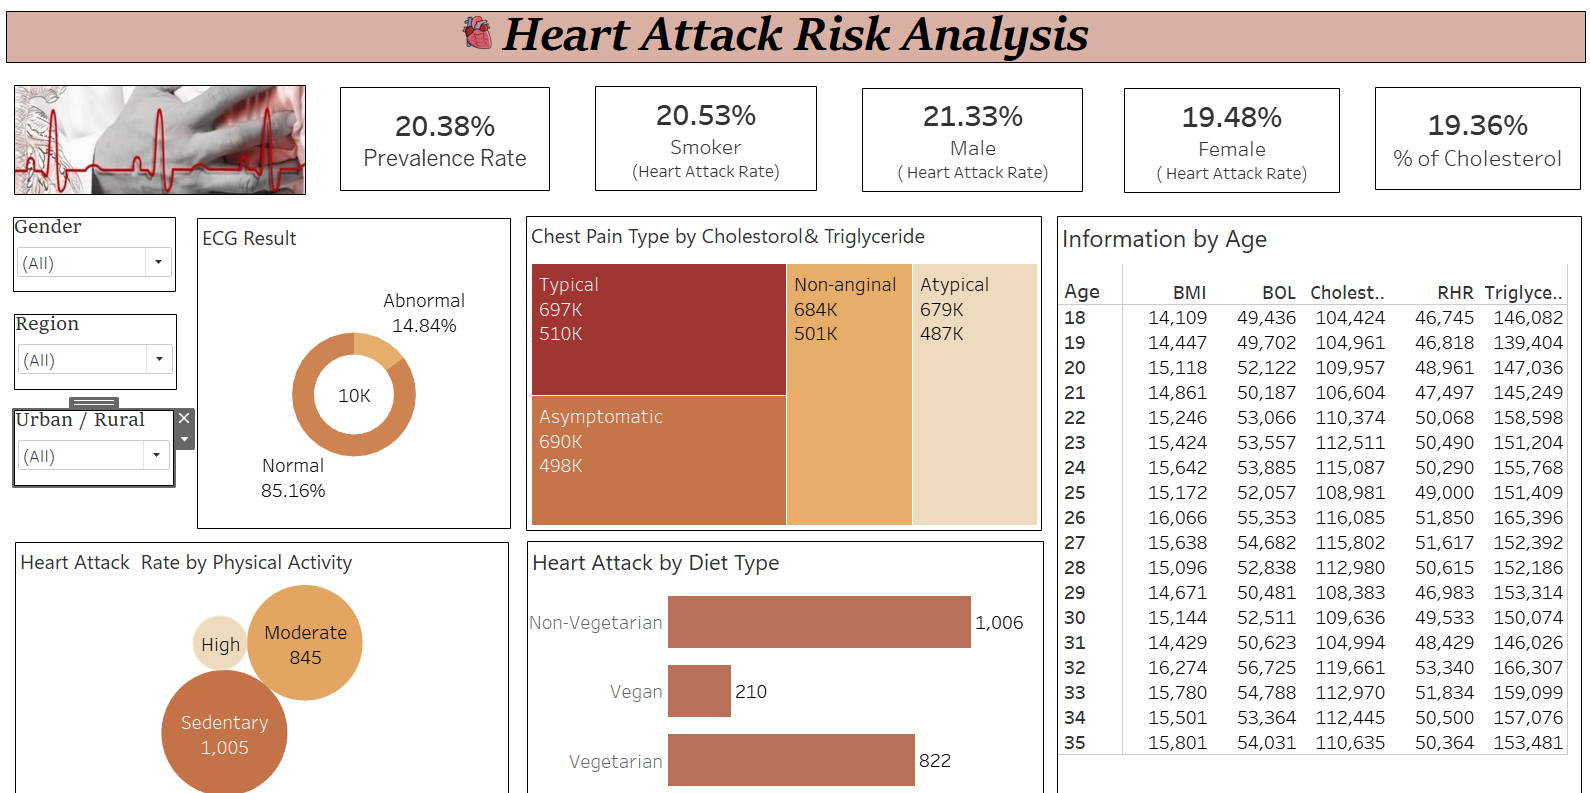

The dashboard page shown, as its layout file describes it:
{"tool":"tableau","page":{"name":"Dashboard 2","canvas":[1000,1000],"units":"permille","ordinal":1},"visuals":[{"type":"title","box":[5,9.8,990,73.4]},{"type":"image","param":"Image/images-removebg-preview.png","box":[281.2,9.8,39.9,68.5]},{"type":"image","param":"Image/Heart_Attack-removebg-preview.png","box":[12.5,105.1,182,134.5]},{"type":"worksheet","title":"Smoker","mark":"Automatic","box":[374.7,106.4,138.4,128.4]},{"type":"worksheet","title":"Prevalence Rate","mark":"Automatic","box":[215.7,107.6,130.9,127.1]},{"type":"worksheet","title":"Cholesterol","mark":"Automatic","box":[861,107.6,128.4,125.9]},{"type":"worksheet","title":"Male","mark":"Automatic","box":[541.1,108.8,137.8,127.1]},{"type":"worksheet","title":"Female","mark":"Automatic","box":[704.5,108.8,134.7,128.4]},{"type":"worksheet","title":"tree map","mark":"Automatic","box":[331.7,265.3,321.7,385.1]},{"type":"worksheet","title":"table","mark":"Automatic","rows":["Age"],"box":[662.7,265.3,327.3,709.1]},{"type":"filter","title":"tree map","param":"[federated.101mydz05yx8te1c7uaap0sat08u].[none:Gender:nk]","box":[11.8,266.5,101.6,91.7]},{"type":"worksheet","title":"ECG result","mark":"Pie","rows":["Calculation_131730331087163394","Calculation_131730331087163394"],"box":[126.6,267.7,195.8,380.2]},{"type":"filter","title":"tree map","param":"[federated.101mydz05yx8te1c7uaap0sat08u].[none:Region:nk]","box":[12.5,385.1,101.6,92.9]},{"type":"filter","title":"tree map","param":"[federated.101mydz05yx8te1c7uaap0sat08u].[none:Urban/Rural:nk]","box":[12.5,502.4,99.8,92.9]},{"type":"worksheet","title":"HeartAttack by Diet type","mark":"Automatic","rows":["Diet Type"],"cols":["Calculation_569986870217240576"],"box":[332.3,662.6,322.3,311.7]},{"type":"worksheet","title":"Physical activity by heart rate","mark":"Circle","box":[13.1,663.8,308,311.7]}]}

Visuals, with their boxes on the dashboard's canvas, which has no fixed pixel size, in thousandths of its width and height (x1, y1, x2, y2). These are canvas units, not pixel positions in the 1590x793 screenshot, which may show the page scaled, cropped or inside an application window:
title: bbox=(5, 10, 995, 83)
image: bbox=(281, 10, 321, 78)
image: bbox=(12, 105, 194, 240)
"Smoker" worksheet: bbox=(375, 106, 513, 235)
"Prevalence Rate" worksheet: bbox=(216, 108, 347, 235)
"Cholesterol" worksheet: bbox=(861, 108, 989, 234)
"Male" worksheet: bbox=(541, 109, 679, 236)
"Female" worksheet: bbox=(704, 109, 839, 237)
"tree map" worksheet: bbox=(332, 265, 653, 650)
"table" worksheet: bbox=(663, 265, 990, 974)
"tree map" filter: bbox=(12, 266, 113, 358)
"ECG result" worksheet (Pie marks): bbox=(127, 268, 322, 648)
"tree map" filter: bbox=(12, 385, 114, 478)
"tree map" filter: bbox=(12, 502, 112, 595)
"HeartAttack by Diet type" worksheet: bbox=(332, 663, 655, 974)
"Physical activity by heart rate" worksheet (Circle marks): bbox=(13, 664, 321, 976)
